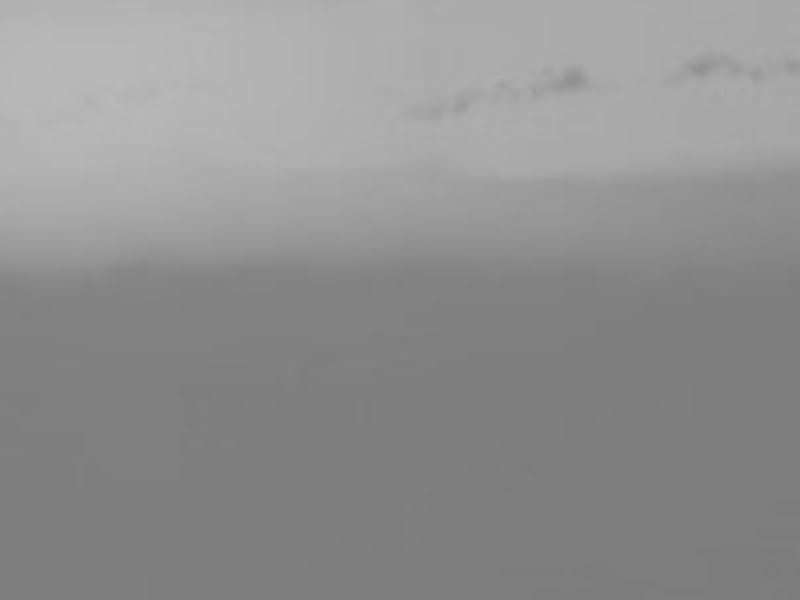defect: (686, 50, 723, 80), (559, 63, 592, 91), (413, 100, 443, 119), (451, 87, 471, 113), (777, 52, 800, 72), (723, 54, 740, 76), (745, 64, 762, 85), (472, 83, 490, 100), (507, 86, 524, 100), (528, 81, 542, 95), (546, 78, 559, 92), (536, 64, 550, 74), (495, 76, 504, 88)
